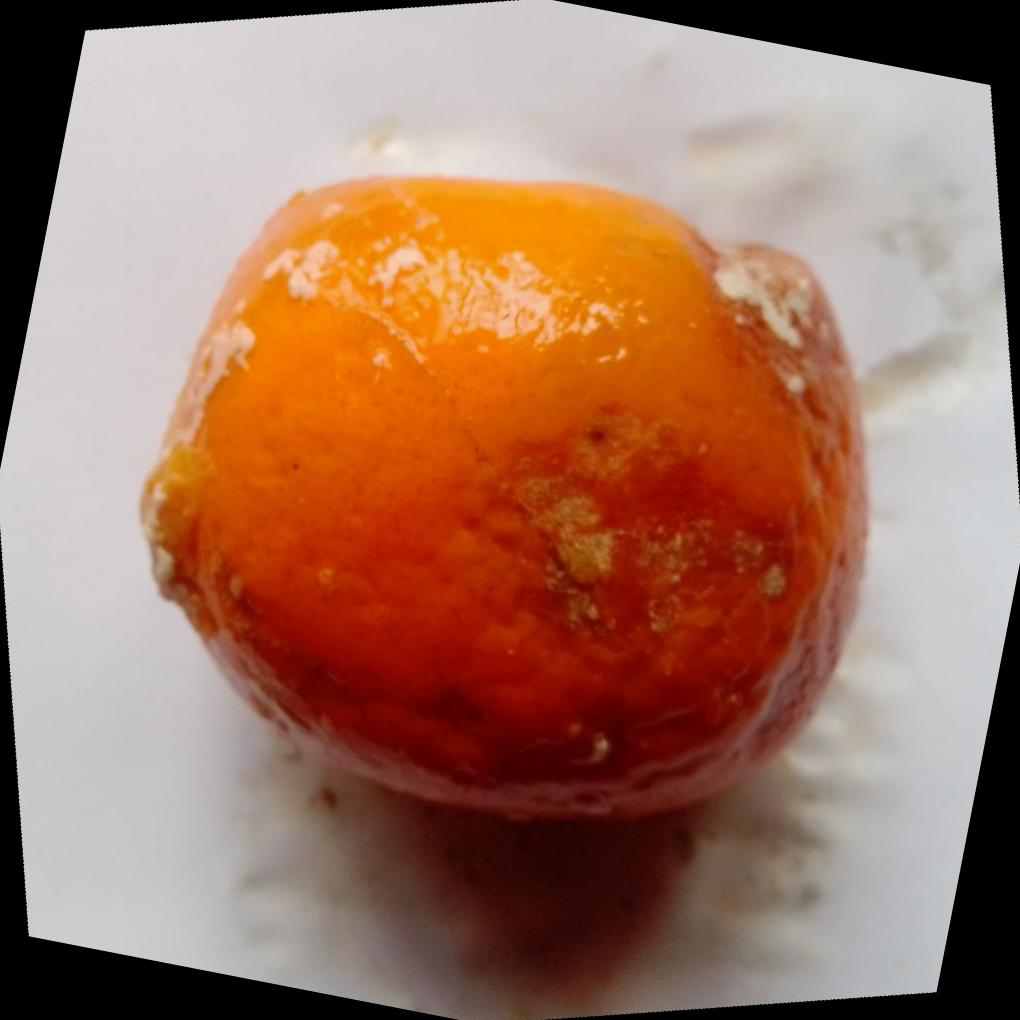FreshOrange: (137, 168, 872, 822)
